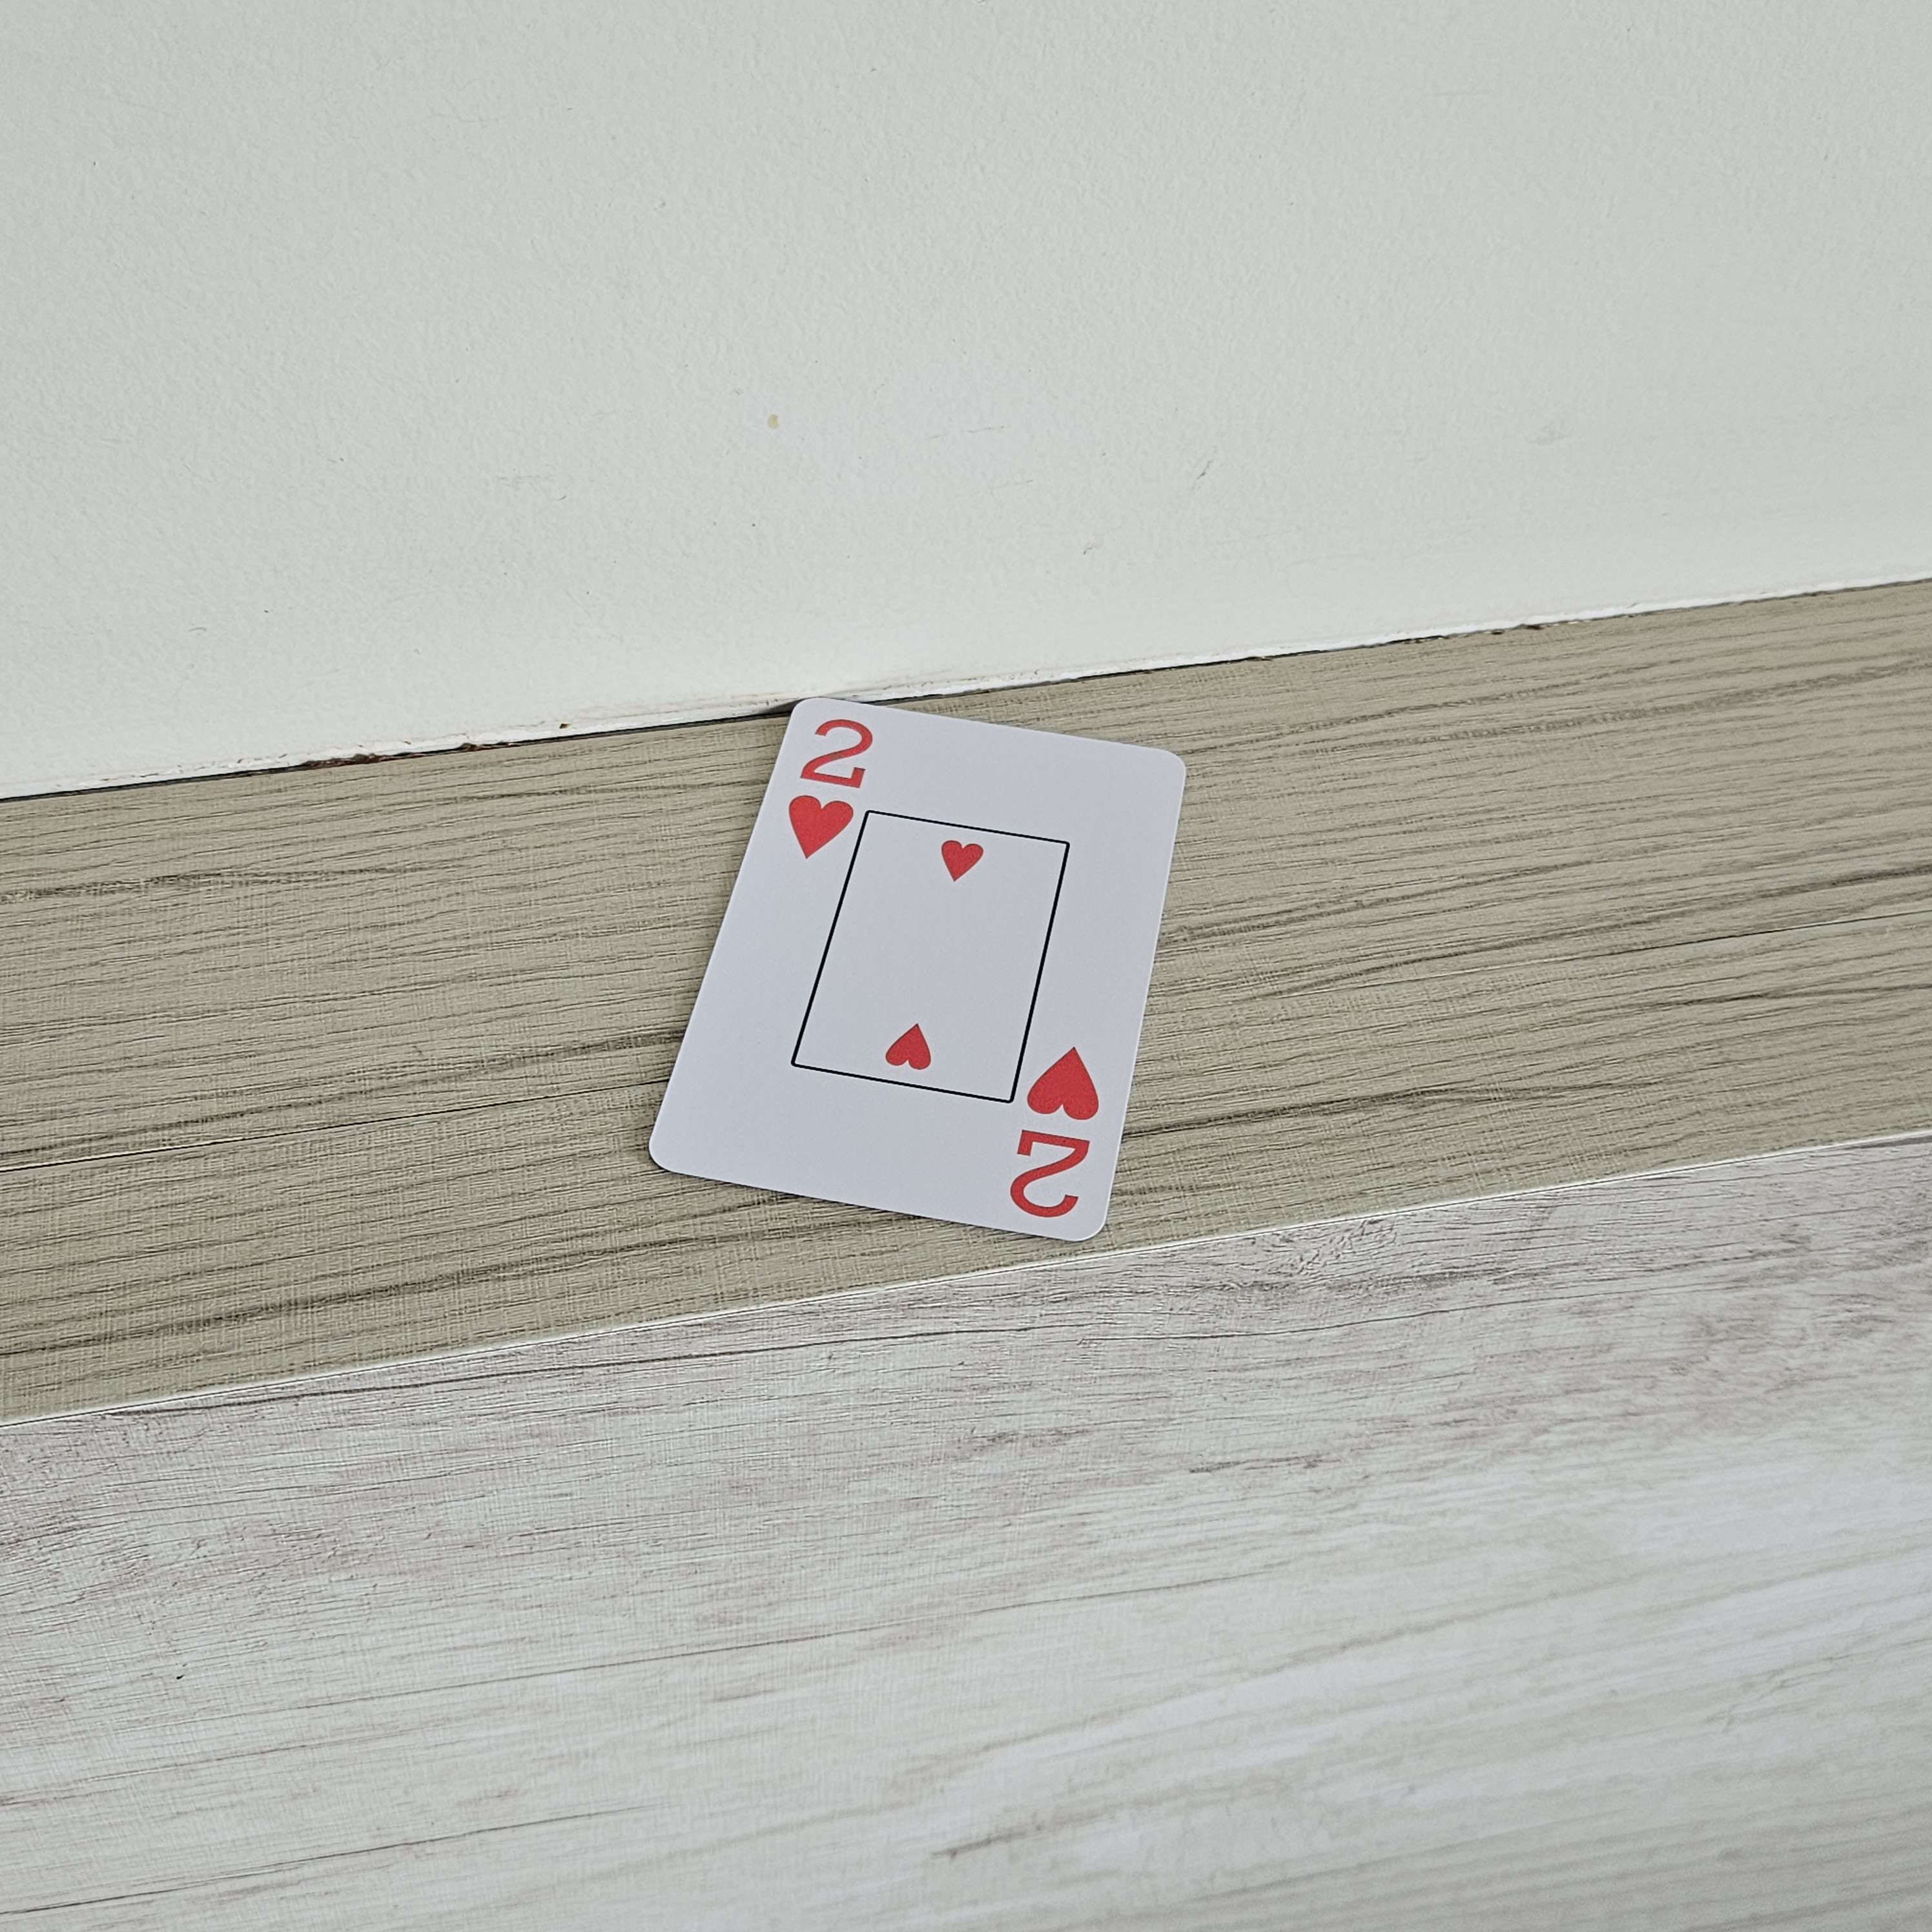2C: (998, 1037, 1104, 1230), (777, 709, 886, 872)
